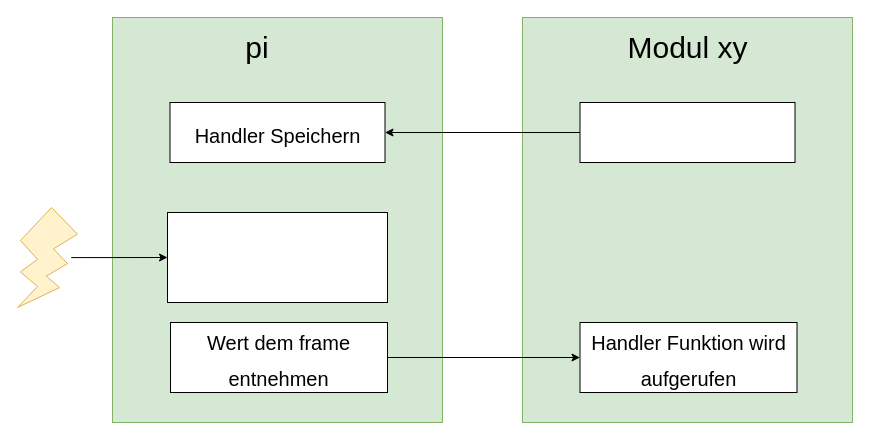
This 870x440 diagram has some shape labels left out. Here are the shapes that lost their labels. From the top down, the centre of each, then its label:
At [687,132]: "Handler Registrieren".
At [277,257]: "Frame mit registrierem Topic empfangen".
